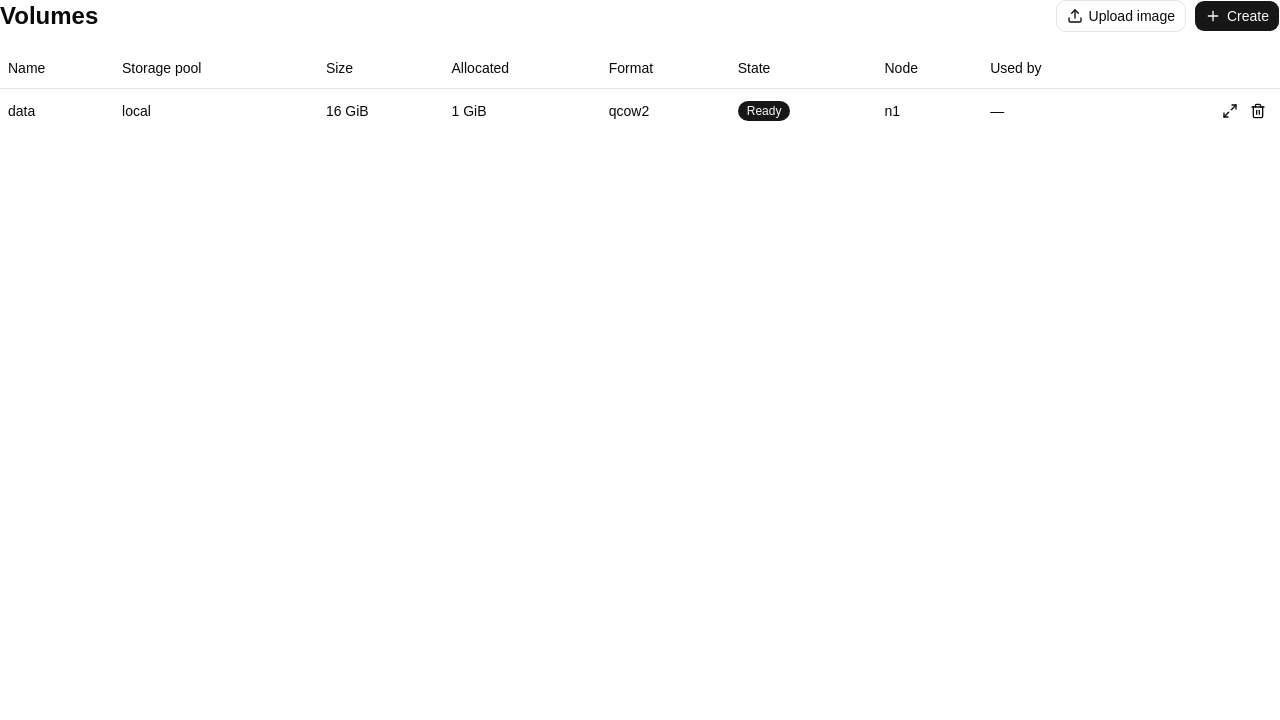
Test: keeps the confirmation open when a VM uses the volume
Click the button named "Delete data" at (1258,110), box [1244,96,1272,124]
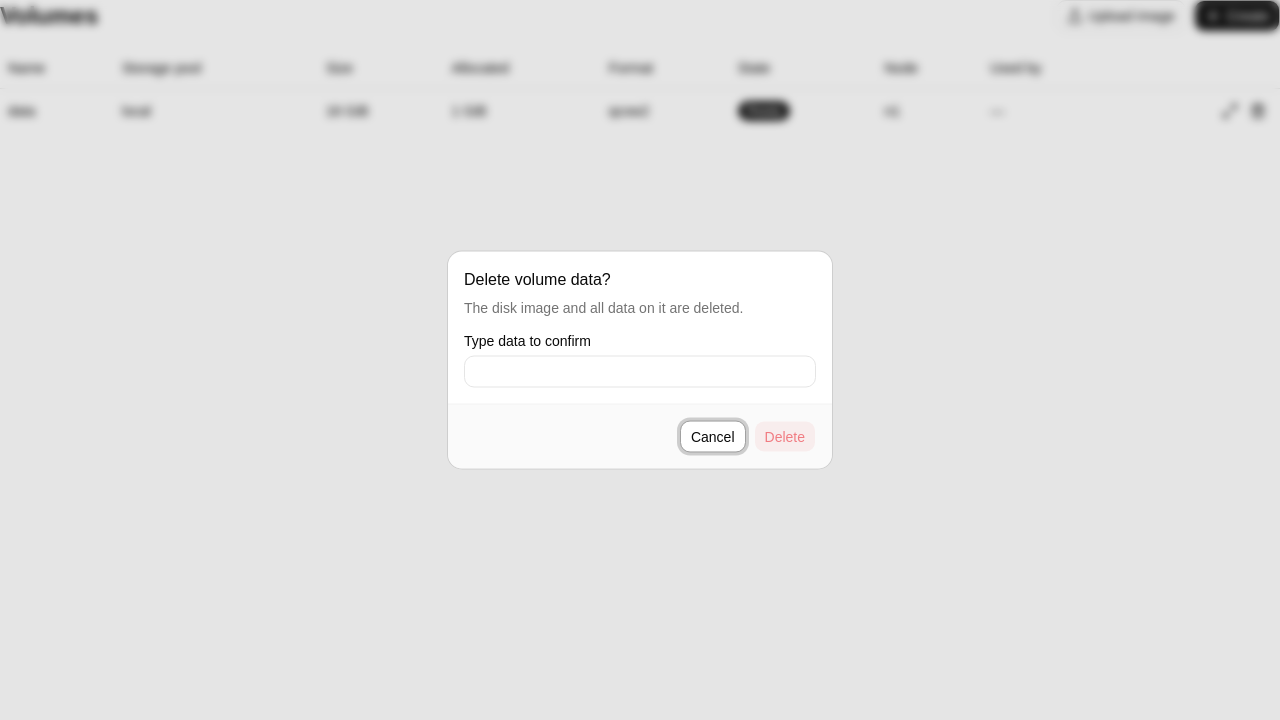
Type "data" into the field labelled "Type data to confirm" at (640,372), box [464,356,816,388]
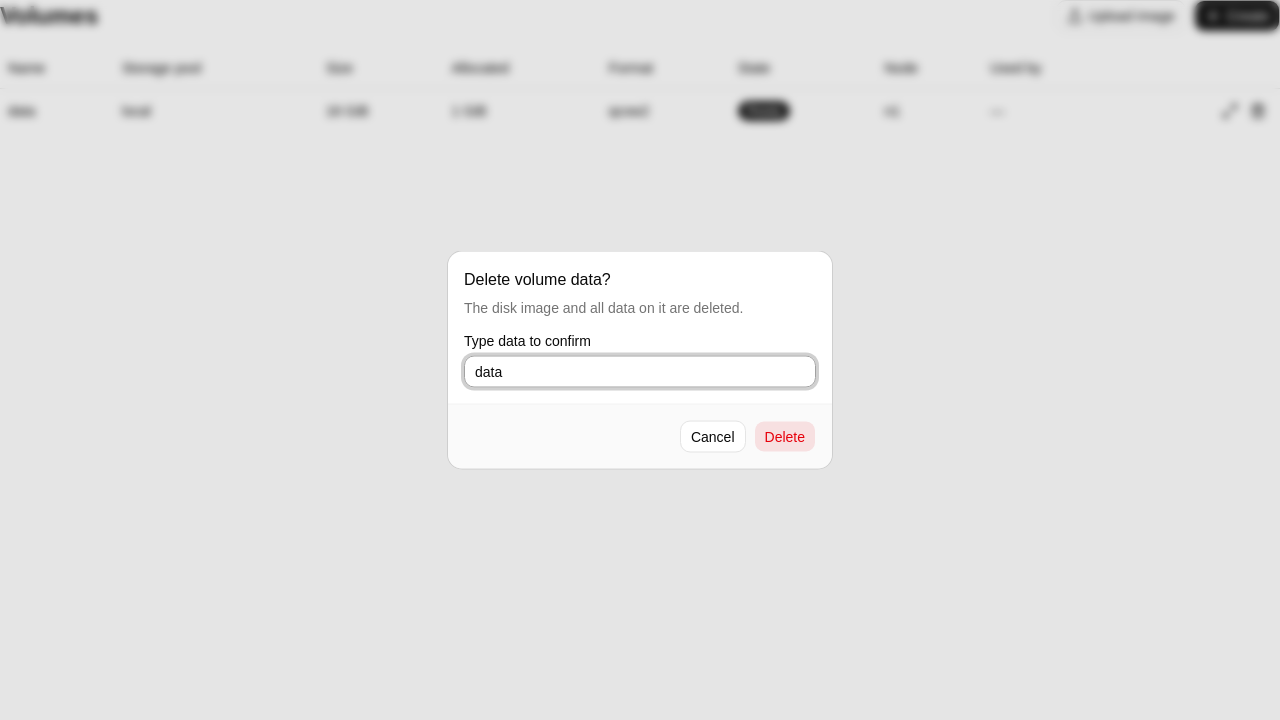
Click the button "Delete" at (785,436), box [754,420,816,452]
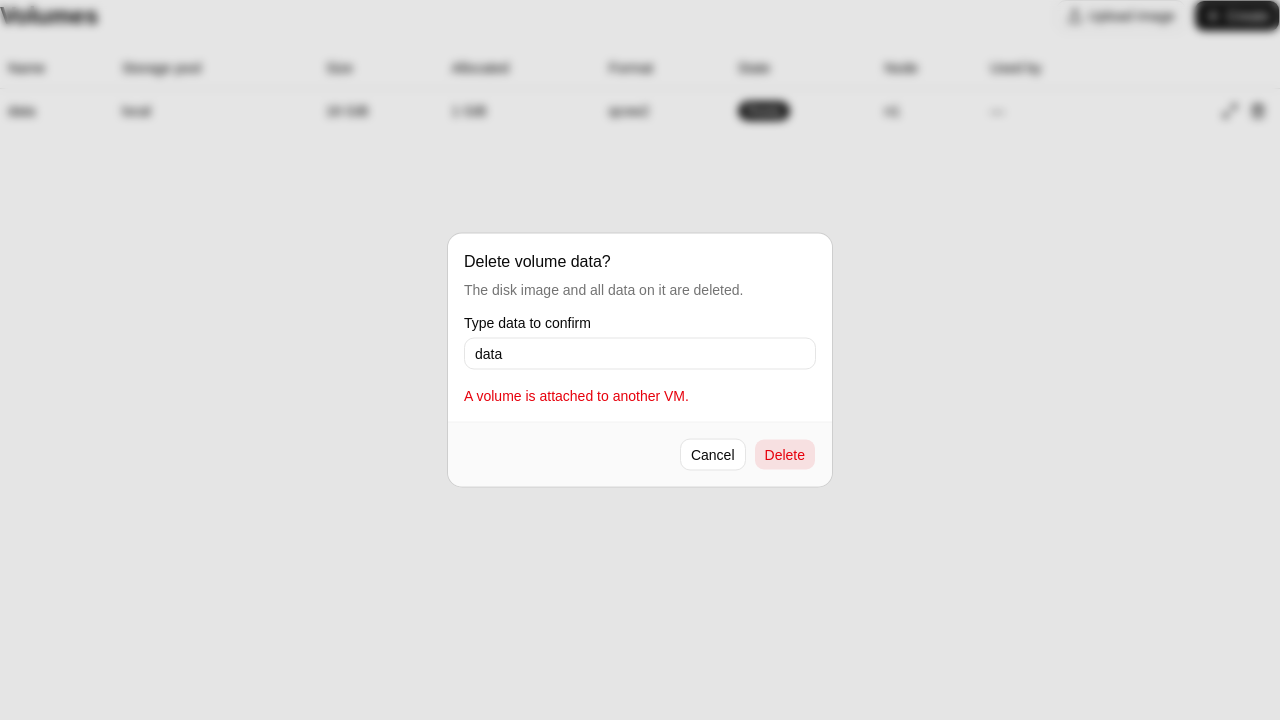
Result: the dialog is shown at [448,234,832,486]
Result: the message reads "A volume is attached to another VM." at [464,388,689,404]
